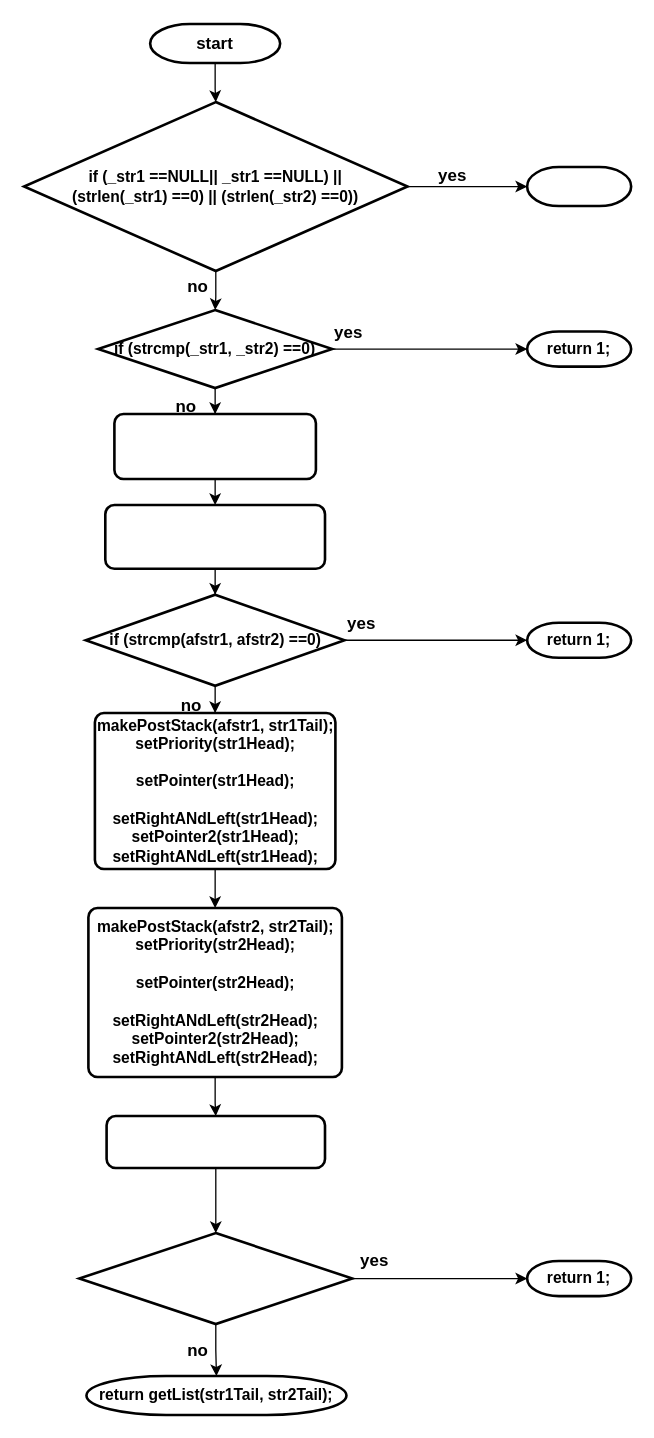
Some shapes in this 654 by 1438 pixel diagram are drawn without their labels. Each missing label, with the box of its shape:
afafstr1 = getStr (str1Head); afafstr2 = getStr (str2Head);: (105, 1114, 326, 1169)
afstr1 = makeSpace (_str1); combinStr (afstr1); removeSpace (afstr1);: (112, 412, 317, 480)
afstr2=makeSpace(_str2); combinStr(afstr2); removeSpace(afstr2);: (103, 503, 326, 569)
if ( strcmp (afafstr1, afafstr2) == 0 ): (77, 1231, 353, 1325)
return 0;: (525, 165, 632, 207)
